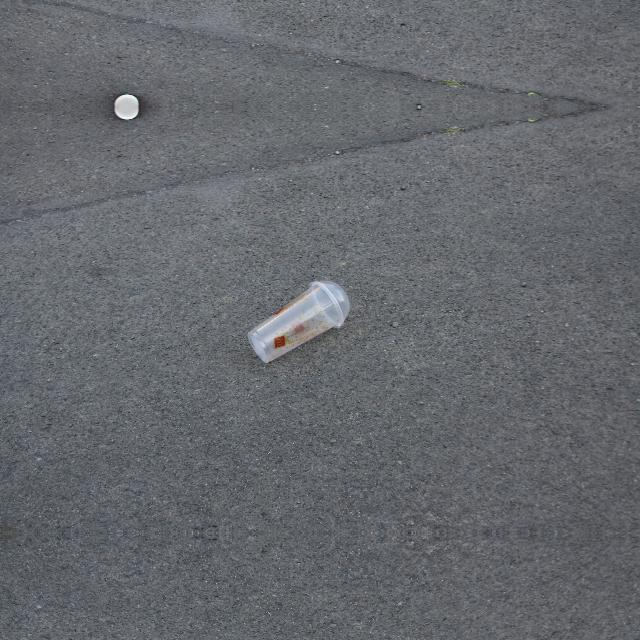Plastic: (247, 279, 351, 363)
